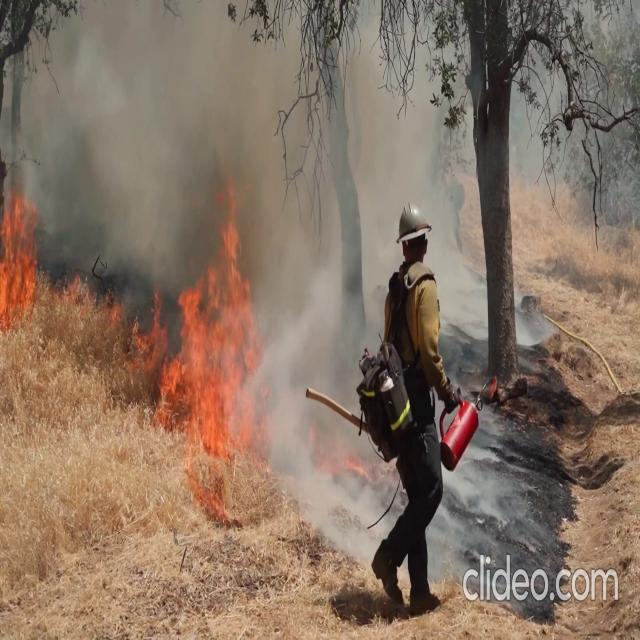Fire: (150, 207, 260, 480), (0, 179, 107, 329), (0, 178, 43, 326)
Smoke: (17, 4, 476, 280)
